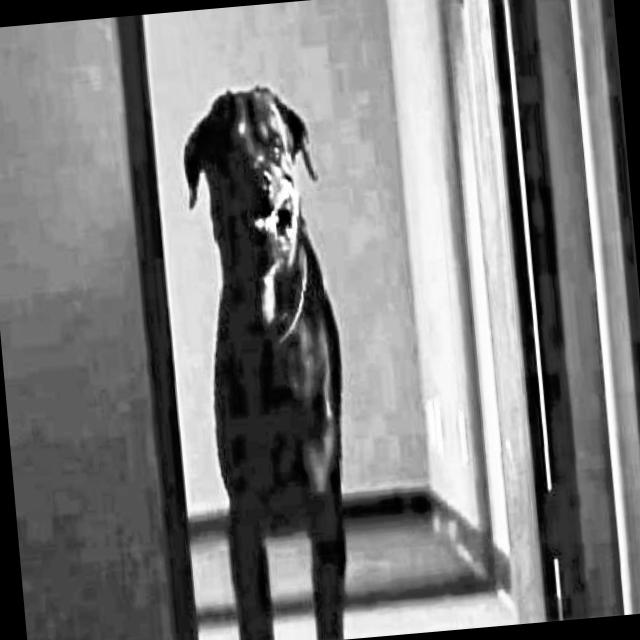Dog: (167, 74, 366, 640)
